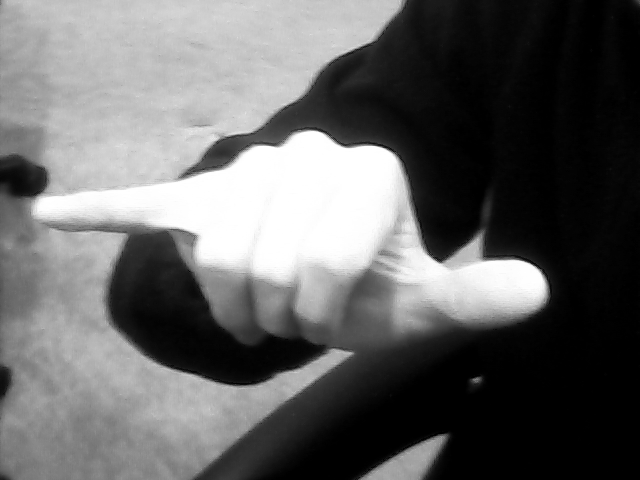aloha: (29, 125, 554, 352)
